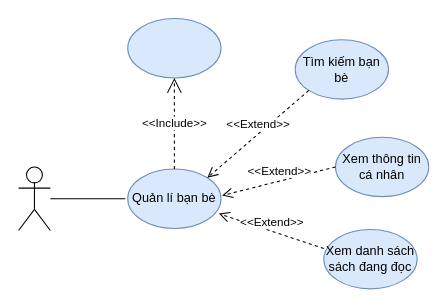
Some shapes in this 447 by 307 pixel diagram are drawn without their labels. The shapes that lost their labels are listed below. From the top down, each one's centre as x and y in pixels, then its label:
the point at 174,47: Đăng nhập
the point at 33,198: User
